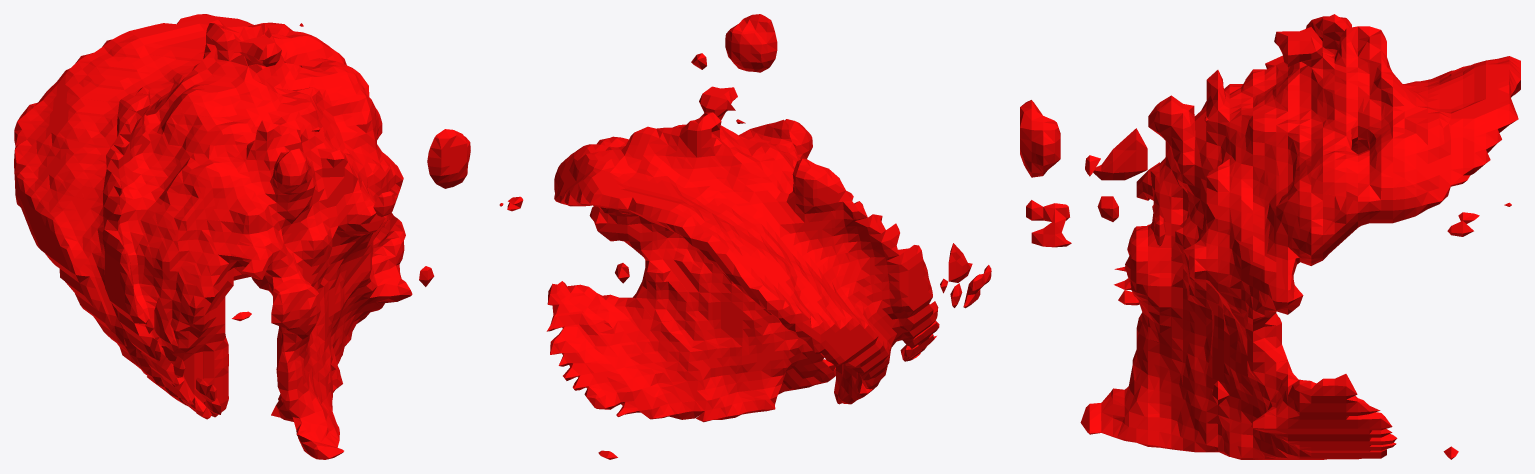
The model's file is B939XXXX-1_valve_6.obj.
3 renders of one model, left to right at view 1: azimuth 30°, elevation 25°; view 2: azimuth 150°, elevation 25°; view 3: azimuth 270°, elevation 25°, orthographic. The views are drawn at different scales.
Visible parts, largest first — view 1: 6_valve; view 2: 6_valve; view 3: 6_valve.
Boxes of the visible parts, <box> form: 6_valve: <box>14,14,470,459</box>; 6_valve: <box>499,14,991,459</box>; 6_valve: <box>1020,14,1520,459</box>.
Bounding box in the file's own units: 75.98 × 76.97 × 85.95.
